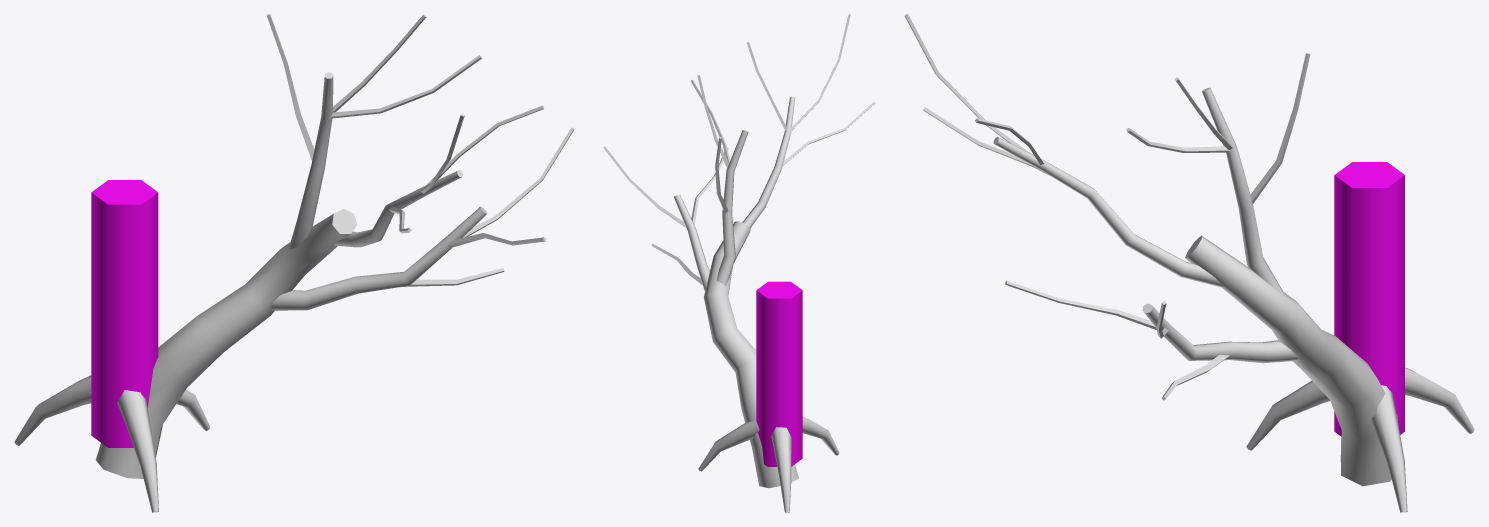
Rendered from tree_dead.glb.
The picture shows the model from 3 angles, left to right: view 1: azimuth 30°, elevation 25°; view 2: azimuth 150°, elevation 25°; view 3: azimuth 270°, elevation 25°; orthographic projection. The views are drawn at different scales.
Visible parts, largest first — view 1: tree_dead, tree_dead_hull; view 2: tree_dead, tree_dead_hull; view 3: tree_dead, tree_dead_hull.
Boxes of the visible parts, box(x1,y1,x2,y2) form: tree_dead: box(14, 14, 574, 512); tree_dead_hull: box(91, 180, 158, 447); tree_dead: box(603, 14, 875, 512); tree_dead_hull: box(756, 281, 802, 466); tree_dead: box(904, 14, 1474, 512); tree_dead_hull: box(1334, 162, 1404, 436).
Size of the model in its own units: 5.34 by 6.08 by 6.04.
